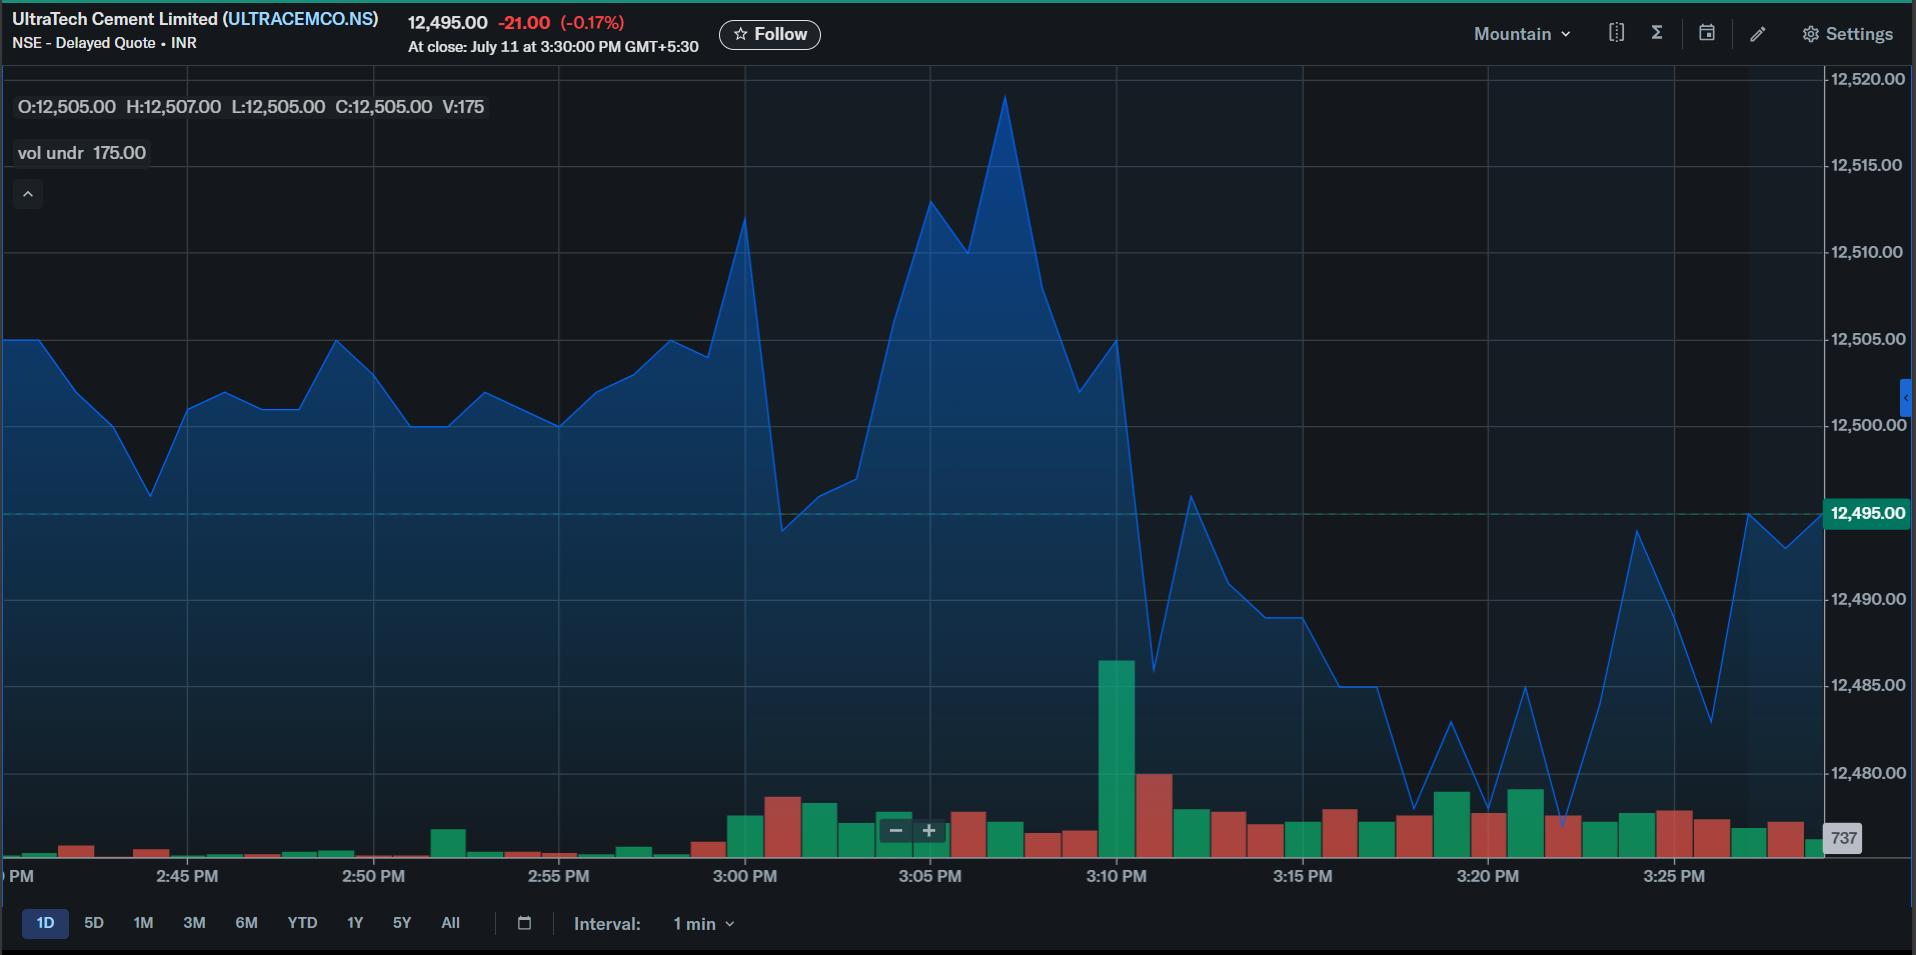Downtrend: (1014, 87, 1163, 703), (1187, 474, 1420, 816), (736, 171, 794, 590)
Uptrend: (806, 64, 1011, 563), (154, 322, 349, 529), (1562, 507, 1645, 815), (1707, 491, 1753, 743)
